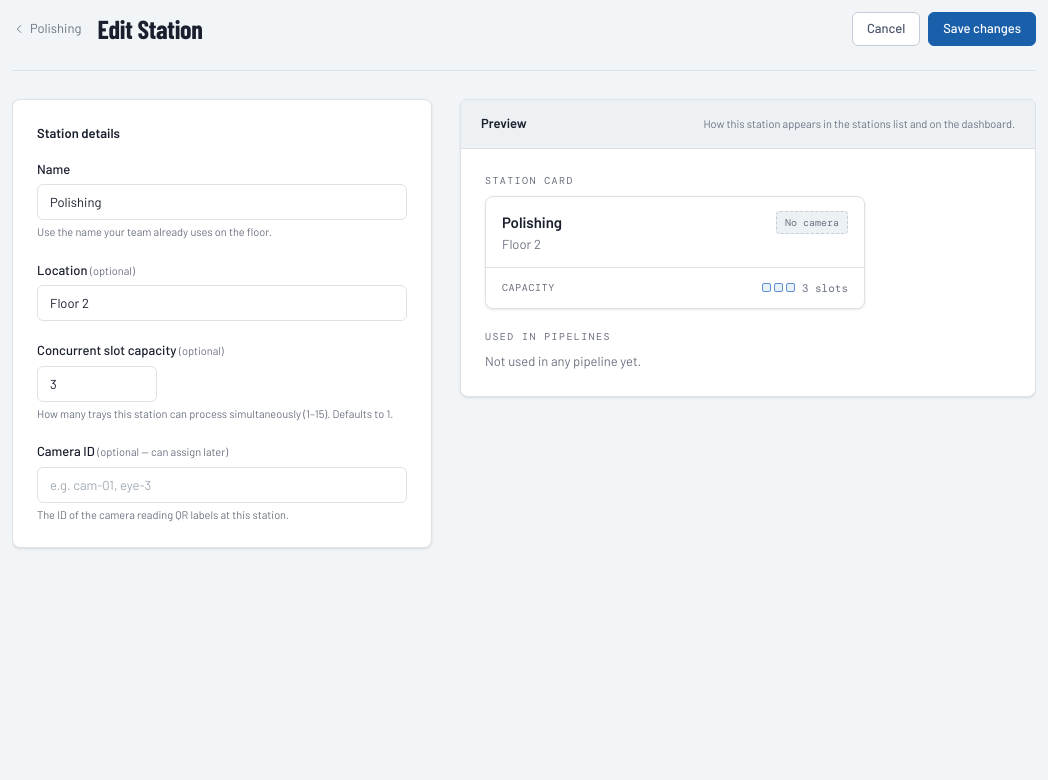
Test case: EditStationView › should re-enable Save after updateStation fails
Click the button "Save changes".
click(982, 29)  # box [928, 12, 1036, 46]
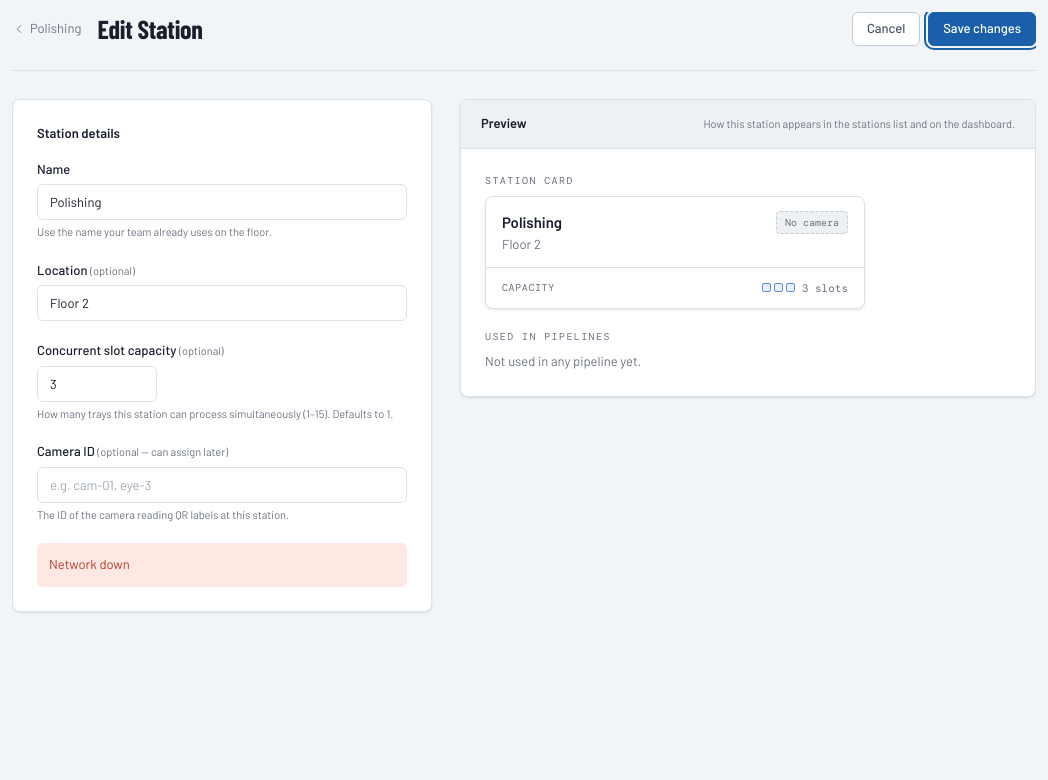
Expected: the text "Network down" is shown, [37, 543, 407, 586]
